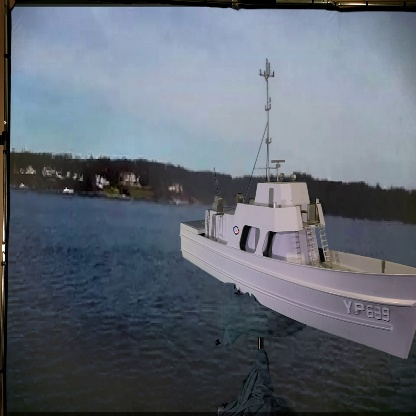YP689: (179, 61, 416, 363)
